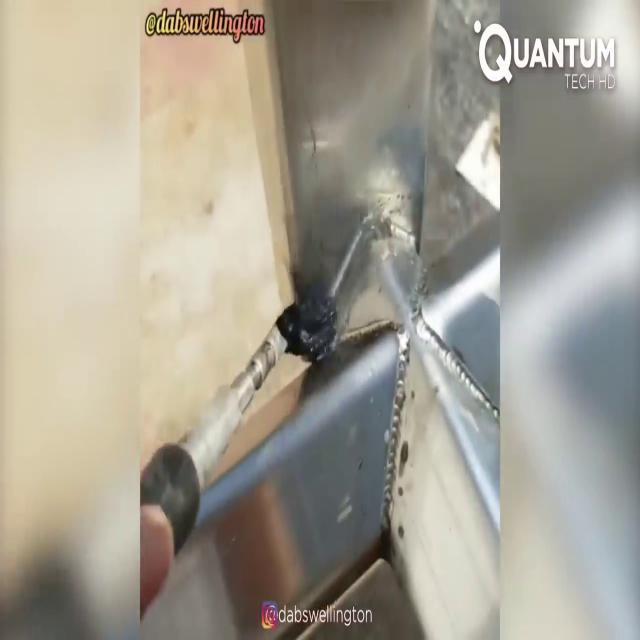Good Weld: (412, 313, 498, 416), (383, 343, 402, 517)
